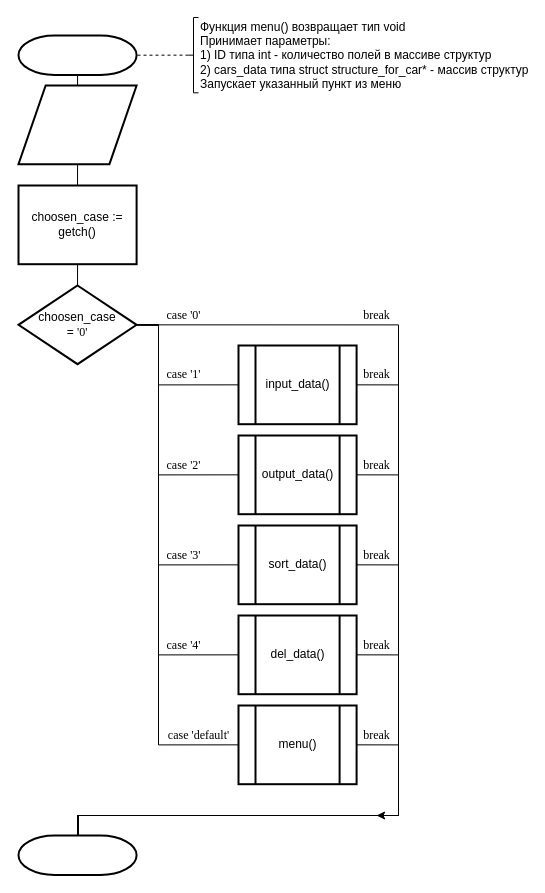
Some shapes in this 545 by 893 pixel diagram are drawn without their labels. The centre of each missing label's shape, as x and y in pixels:
"choosen_case" goes at point 77,124.
"void menu()" goes at point 77,54.
"Конец" goes at point 77,854.
